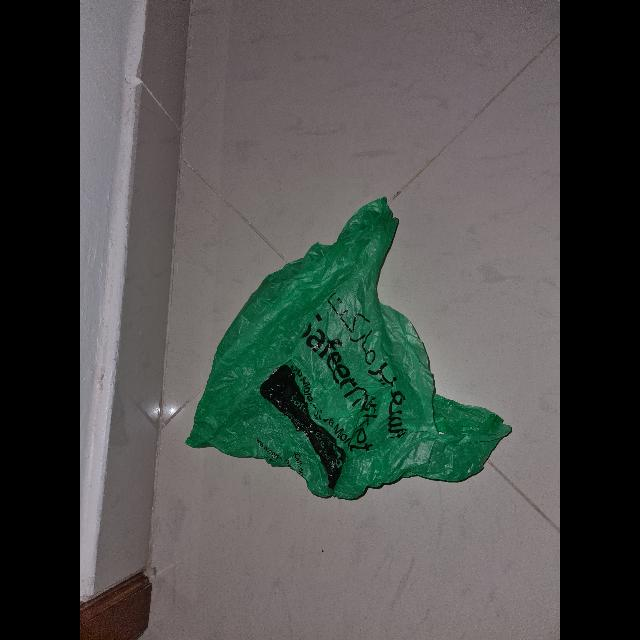plastic_bag: (185, 193, 515, 502)
